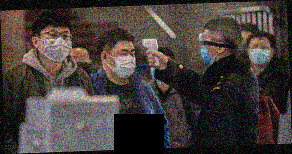with_mask: (38, 28, 74, 63), (110, 47, 137, 79), (199, 31, 220, 66), (248, 41, 273, 66), (70, 52, 91, 73)
